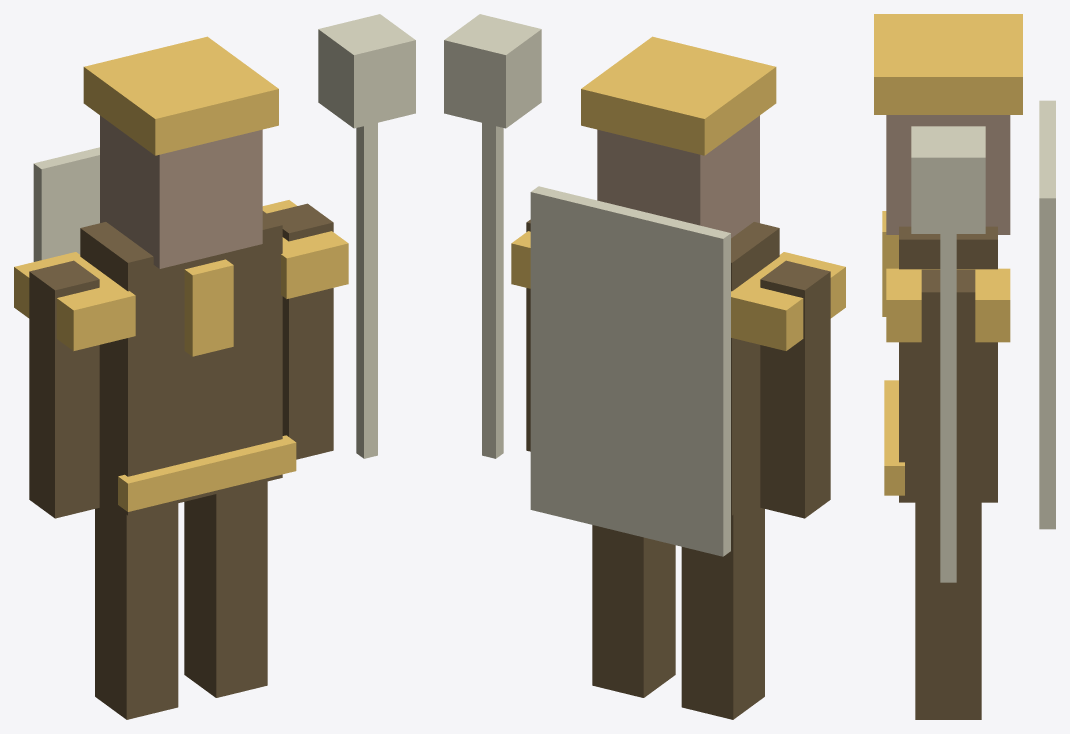
Rendered from 15_draven_frostrelay_specialist_under_hazard.glb.
3 views of the same model, side by side, from view 1: azimuth 30°, elevation 25°; view 2: azimuth 150°, elevation 25°; view 3: azimuth 270°, elevation 25° (orthographic). The views are drawn at different scales.
Visible parts, largest first — view 1: Draven Frostrelay, Specialist under Hazard; view 2: Draven Frostrelay, Specialist under Hazard; view 3: Draven Frostrelay, Specialist under Hazard.
Part boxes in pixels (x1,y1,x2,y2): Draven Frostrelay, Specialist under Hazard: [14, 14, 415, 719]; Draven Frostrelay, Specialist under Hazard: [444, 14, 845, 719]; Draven Frostrelay, Specialist under Hazard: [874, 14, 1055, 719].
Bounding box in the file's own units: 0.9962 × 1.64 × 0.4235.
